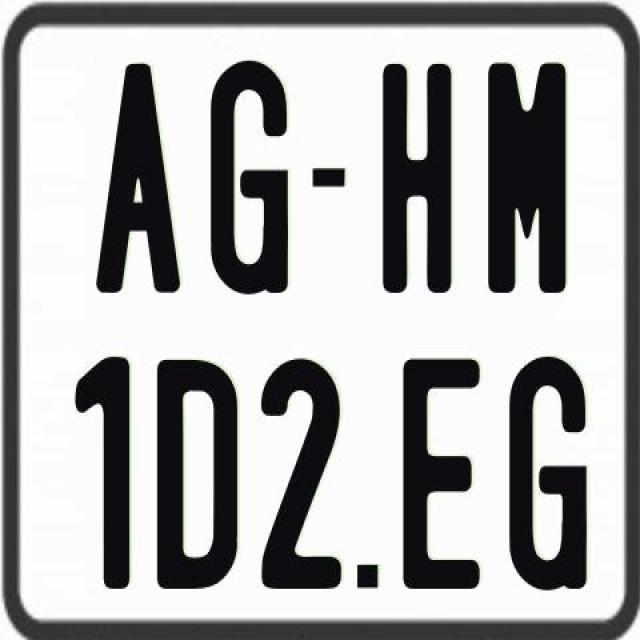1: (70, 352, 126, 587)
2: (258, 353, 344, 584)
A: (95, 64, 186, 299)
D: (154, 356, 242, 594)
E: (401, 356, 487, 594)
G: (209, 59, 295, 294), (508, 352, 588, 589)
H: (382, 61, 454, 294)
M: (486, 58, 566, 298)
